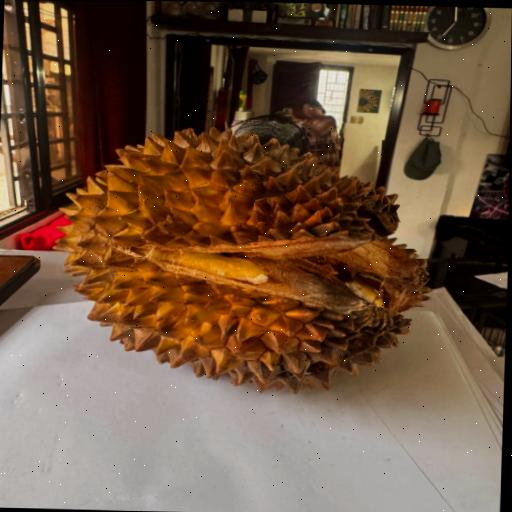rot: (17, 104, 449, 409)
